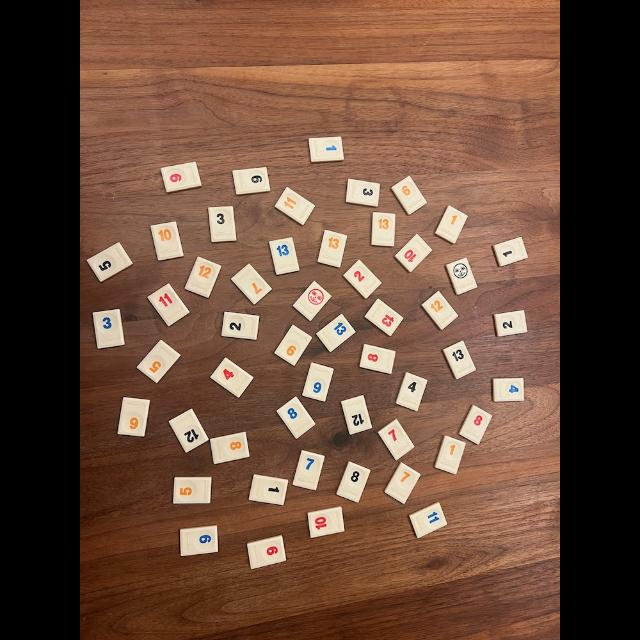black_1: (250, 475, 289, 505), (494, 236, 528, 266)
black_12: (169, 409, 209, 452), (341, 395, 372, 435)
black_13: (442, 341, 476, 379)
black_2: (222, 311, 258, 340), (494, 310, 528, 336)
black_3: (208, 208, 236, 241), (347, 179, 379, 206)
black_4: (396, 372, 428, 411)
black_5: (88, 242, 132, 281)
black_6: (233, 168, 270, 195)
black_8: (338, 461, 370, 502)
blue_1: (309, 136, 344, 162)
blue_11: (409, 502, 448, 538)
blue_13: (318, 314, 355, 351), (269, 238, 300, 275)
blue_3: (93, 309, 124, 348)
blue_4: (493, 378, 525, 401)
blue_6: (303, 362, 334, 401), (181, 525, 219, 556)
blue_7: (293, 450, 325, 490)
blue_8: (278, 396, 315, 439)
joker: (292, 281, 331, 320), (446, 258, 478, 295)
orange_1: (435, 205, 468, 244), (435, 435, 466, 475)
orange_10: (151, 221, 184, 261)
orange_11: (275, 188, 315, 225)
orange_12: (185, 256, 221, 298), (421, 291, 458, 330)
orange_13: (318, 230, 348, 268), (371, 212, 396, 246)
orange_5: (138, 340, 180, 382), (173, 476, 210, 504)
orange_6: (391, 176, 426, 215), (119, 398, 150, 436)
orange_7: (231, 264, 271, 304), (385, 462, 420, 504)
orange_8: (211, 431, 250, 464)
orange_9: (275, 325, 311, 366)
red_10: (395, 234, 431, 271), (308, 506, 345, 538)
red_11: (148, 284, 189, 326)
red_13: (365, 299, 404, 336)
red_2: (344, 260, 381, 299)
red_4: (210, 358, 254, 398)
red_6: (248, 535, 286, 569)
red_7: (379, 419, 414, 460)
red_8: (459, 405, 492, 444), (359, 344, 396, 374)
red_9: (161, 162, 201, 192)
